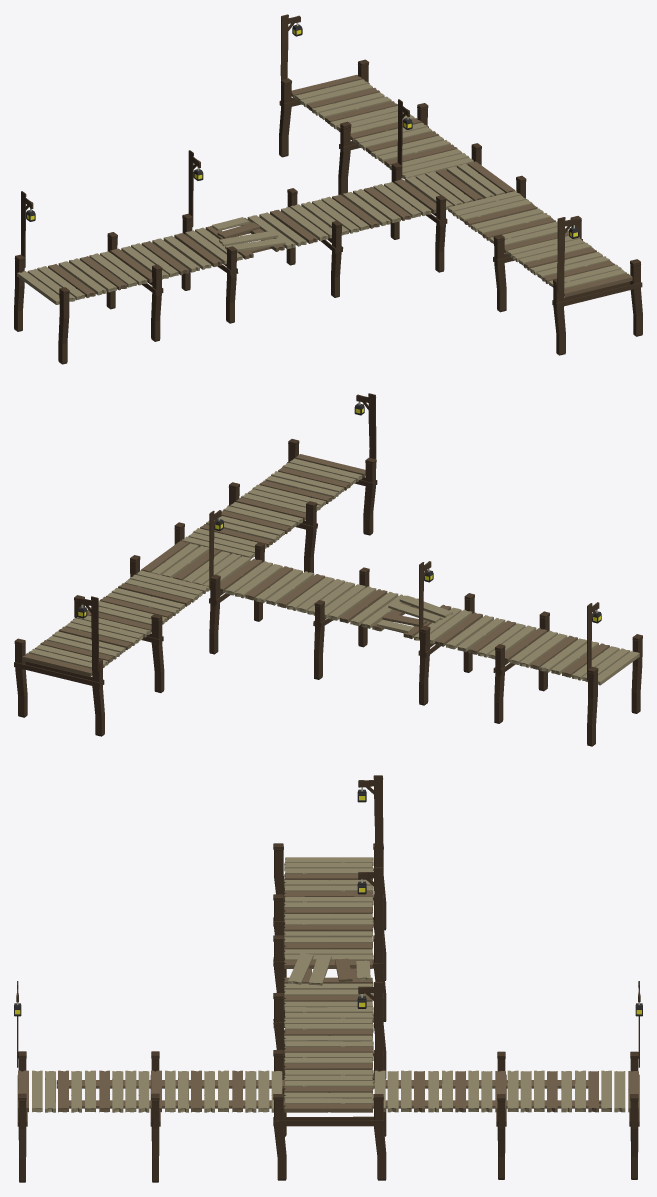
Rendered from DockT.fbx.
The picture shows the model from 3 angles, top to bottom: view 1: azimuth 30°, elevation 25°; view 2: azimuth 150°, elevation 25°; view 3: azimuth 270°, elevation 25°; orthographic projection. The views are drawn at different scales.
Parts seen in each view (by area): view 1: Cube.049; view 2: Cube.049; view 3: Cube.049.
Boxes of the visible parts, bbox=[...] form: Cube.049: bbox=[14, 14, 642, 364]; Cube.049: bbox=[14, 393, 642, 746]; Cube.049: bbox=[14, 775, 642, 1182].
Size of the model in its own units: 8144 by 2294 by 8434.
